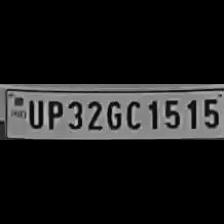1: (182, 96, 200, 130), (143, 97, 159, 131)
2: (85, 97, 103, 130)
3: (64, 97, 82, 130)
5: (199, 96, 221, 128), (160, 96, 180, 130)
C: (123, 97, 143, 131)
G: (104, 97, 122, 130)
P: (44, 97, 64, 130)
U: (25, 97, 43, 129)
